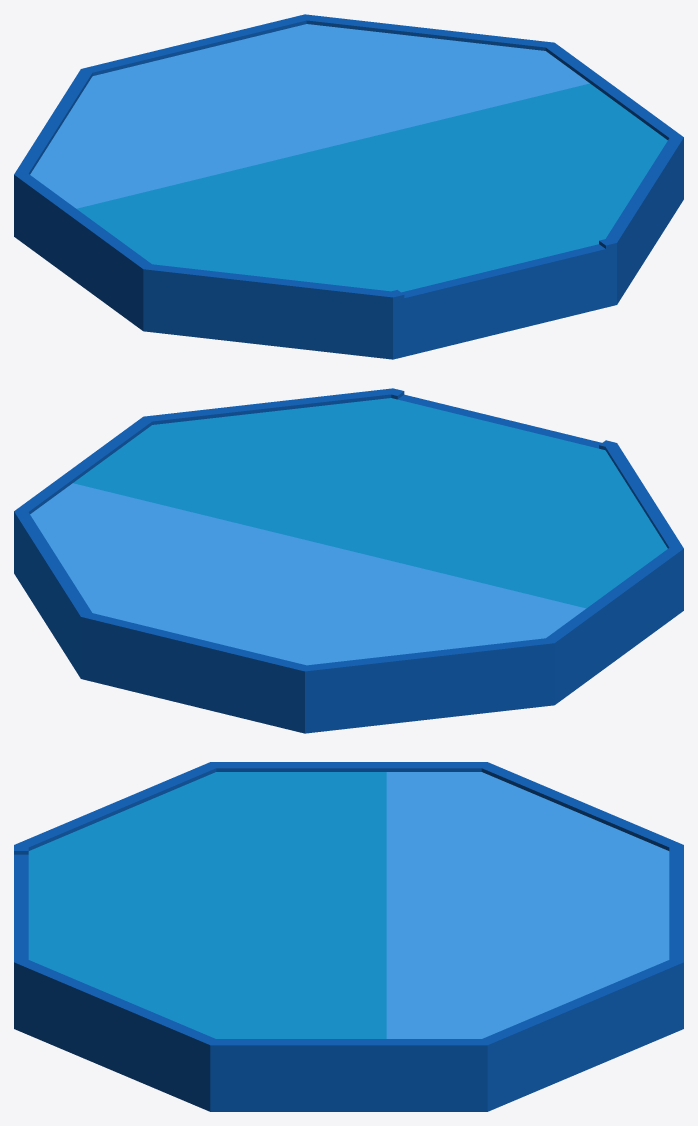
The model's file is road_blue_final.fbx.
The picture shows the model from 3 angles, top to bottom: view 1: azimuth 30°, elevation 25°; view 2: azimuth 150°, elevation 25°; view 3: azimuth 270°, elevation 25°; orthographic projection. The views are drawn at different scales.
Visible parts, largest first — view 1: road_blue_final; view 2: road_blue_final; view 3: road_blue_final.
Boxes of the visible parts, left/top/right/bottom form: road_blue_final: left=14, top=14, right=683, bottom=359; road_blue_final: left=14, top=388, right=683, bottom=733; road_blue_final: left=14, top=762, right=683, bottom=1111.
Bounding box in the file's own units: 4.83 × 0.5304 × 4.83.
